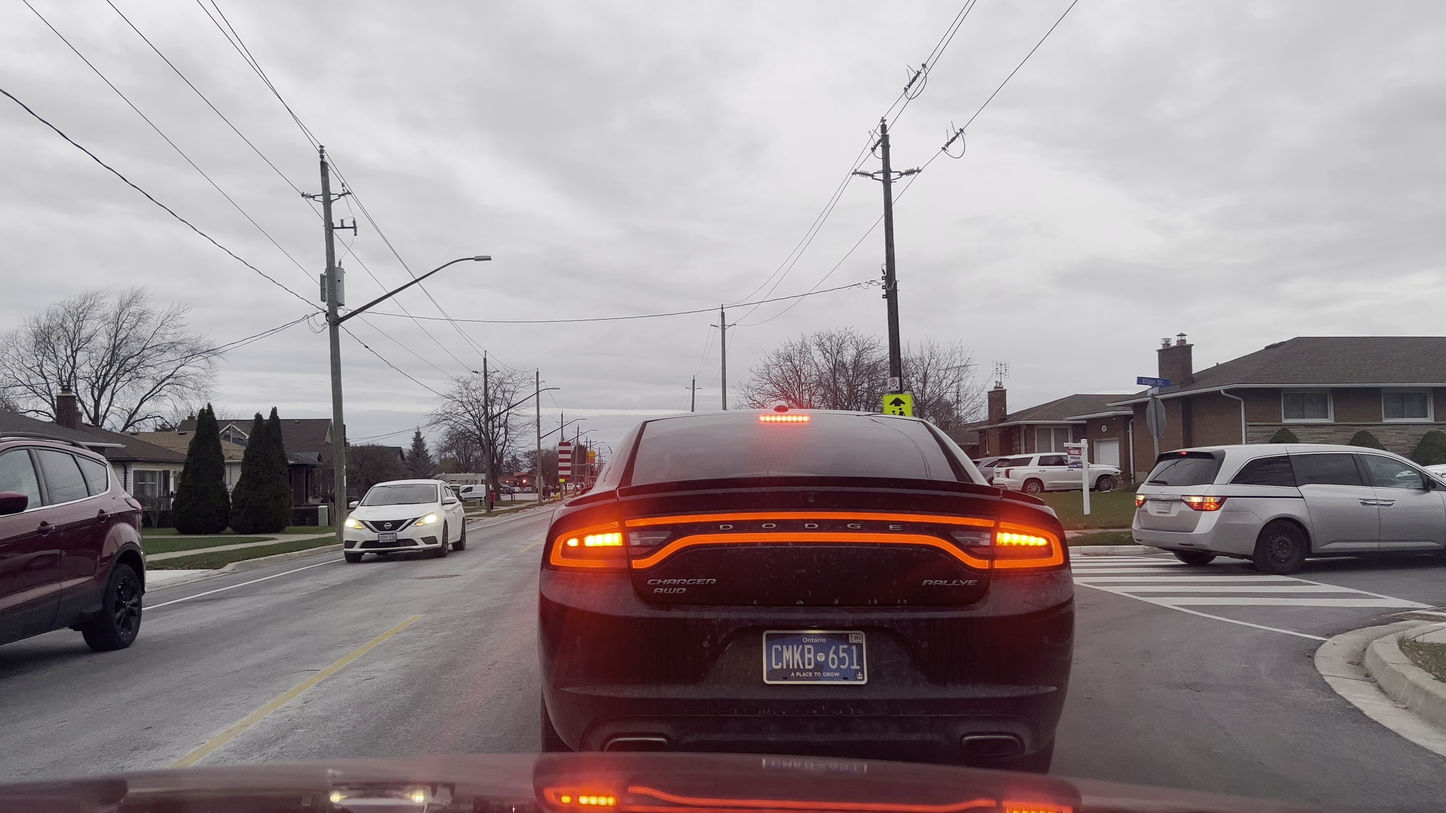construction: (542, 429, 626, 511)
